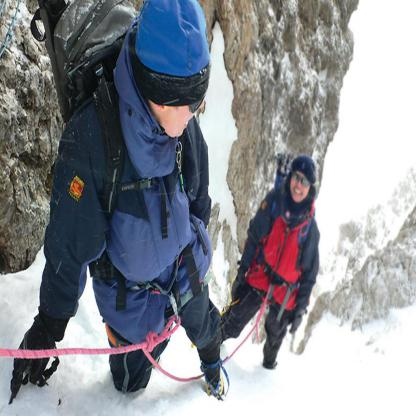face: (163, 80, 211, 138), (291, 167, 312, 204)
